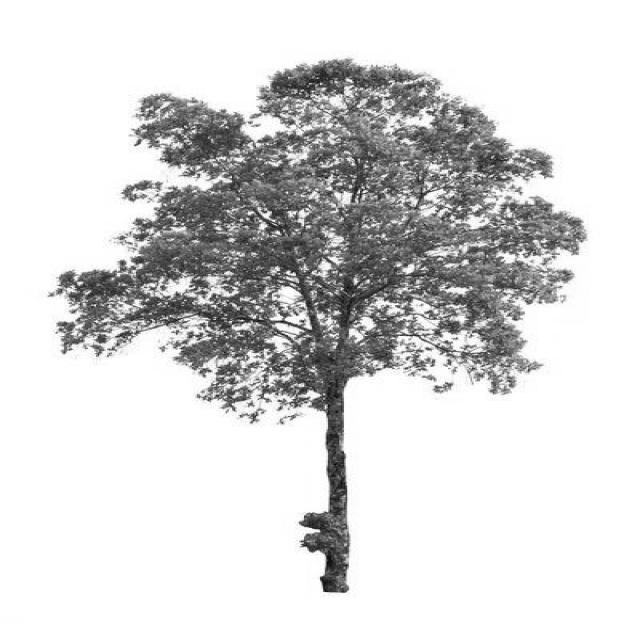Tree: (54, 60, 586, 592)
